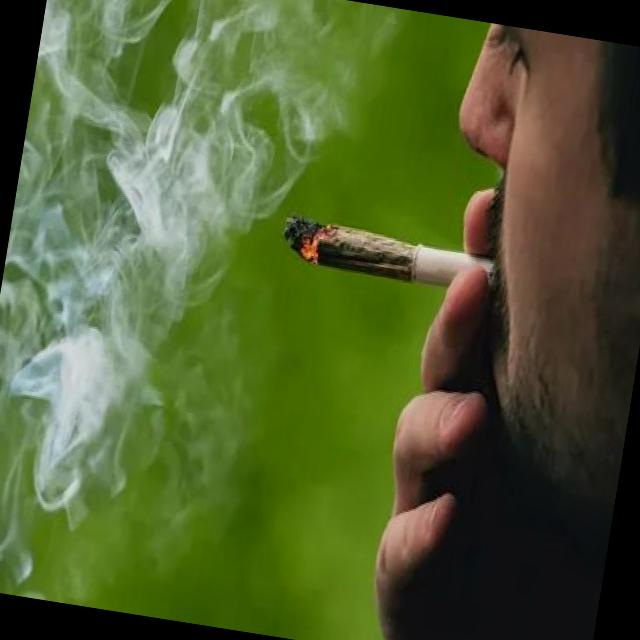smoke: (275, 207, 505, 309)
